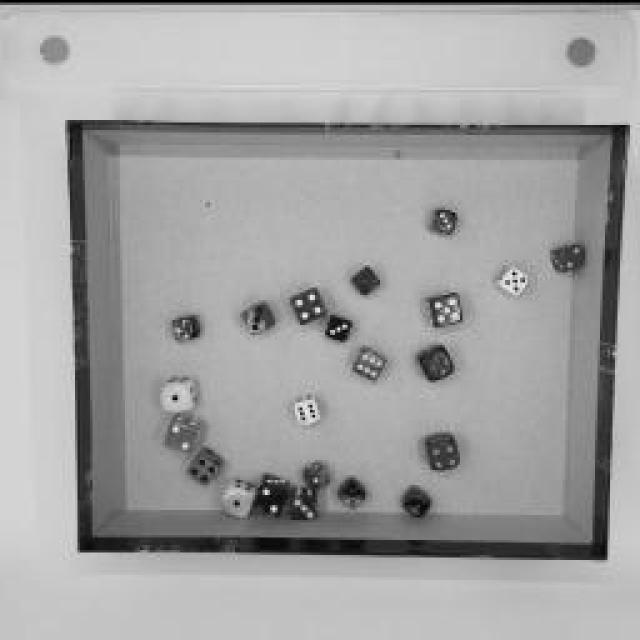dice_1: (220, 472, 260, 516), (159, 371, 201, 409), (400, 482, 432, 516), (301, 455, 334, 487)
dice_2: (160, 408, 208, 452), (252, 467, 292, 515), (550, 238, 590, 272)
dice_3: (239, 295, 279, 335), (350, 260, 385, 295), (290, 482, 320, 520), (324, 310, 356, 340), (428, 204, 460, 234)
dice_4: (286, 281, 332, 324), (185, 442, 227, 486), (422, 426, 462, 469)
dice_5: (412, 338, 458, 382), (423, 285, 465, 327), (495, 257, 533, 295), (336, 472, 369, 506), (170, 308, 202, 338)
dice_6: (352, 340, 390, 380), (290, 388, 325, 422)
